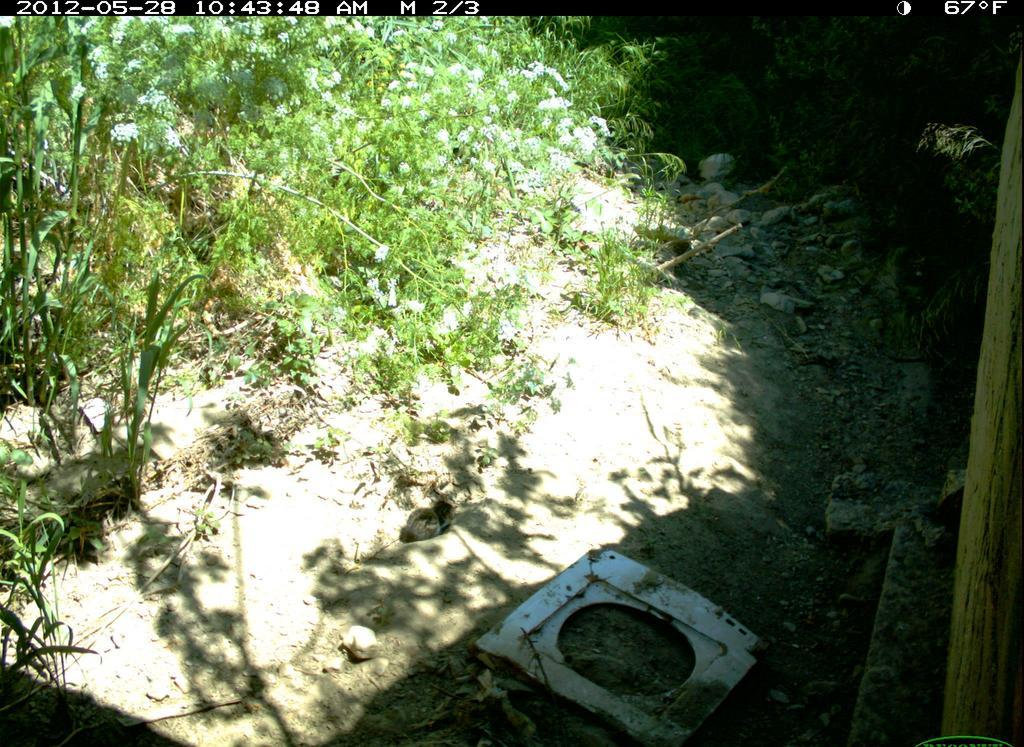cat: (396, 487, 461, 556)
